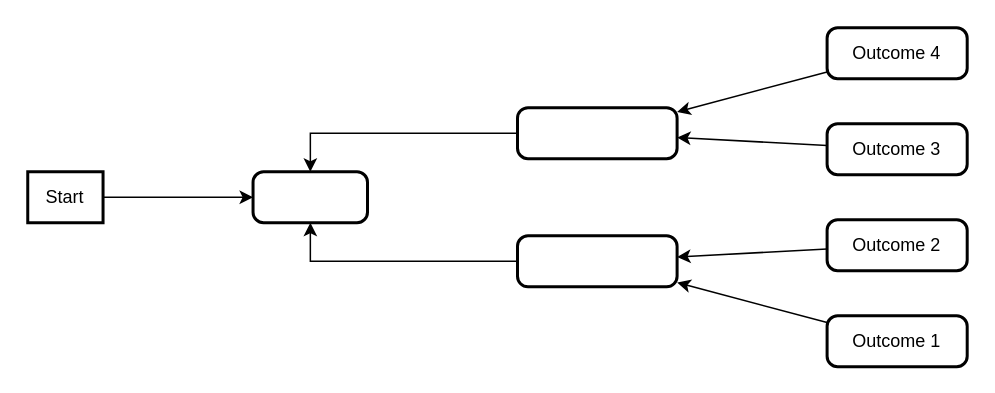
The diagram is 995 pixels wide and 393 high, and some of its shapes have lost their labels. The centre of each missing label's shape, as x and y in pixels:
Choice 1: point 309,197
Sub-choice 1: point 596,261
Sub-choice 2: point 596,132
